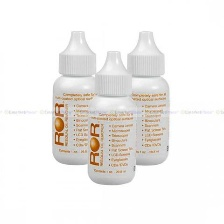cleaning_solution: (113, 26, 172, 166), (83, 46, 140, 189), (50, 26, 103, 167)
